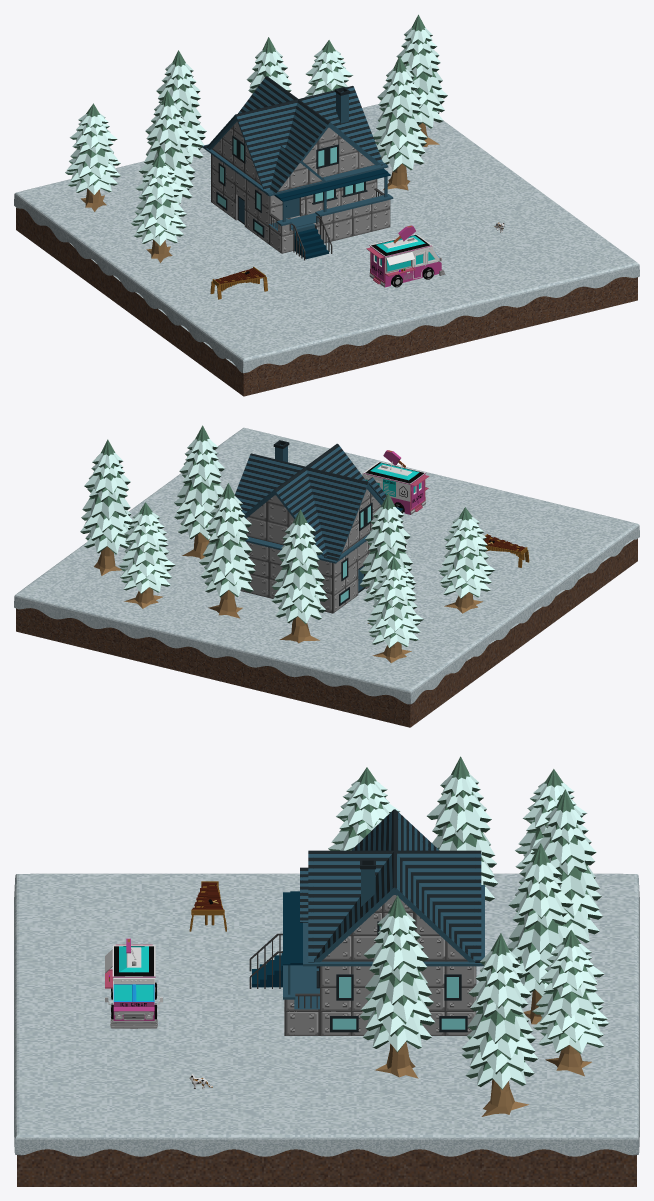
3 renders of one model, top to bottom at view 1: azimuth 30°, elevation 25°; view 2: azimuth 150°, elevation 25°; view 3: azimuth 270°, elevation 25°, orthographic. The views are drawn at different scales.
Parts seen in each view (by area): view 1: Cube.003, Cube.078, VEHICLES_ICE_CREAM_TRUCK, OBJRANDOM_MARIMBA; view 2: Cube.003, Cube.078, VEHICLES_ICE_CREAM_TRUCK, OBJRANDOM_MARIMBA; view 3: Cube.003, Cube.078, VEHICLES_ICE_CREAM_TRUCK, OBJRANDOM_MARIMBA.
Part boxes in pixels (box(x1,y1,x2,y2)): Cube.003: box(14, 14, 639, 396); Cube.078: box(202, 76, 393, 260); VEHICLES_ICE_CREAM_TRUCK: box(366, 225, 445, 287); OBJRANDOM_MARIMBA: box(210, 266, 267, 299); Cube.003: box(14, 425, 639, 727); Cube.078: box(235, 440, 405, 613); VEHICLES_ICE_CREAM_TRUCK: box(362, 450, 429, 514); OBJRANDOM_MARIMBA: box(484, 534, 529, 567); Cube.003: box(14, 756, 639, 1186); Cube.078: box(249, 809, 484, 1035); VEHICLES_ICE_CREAM_TRUCK: box(105, 938, 162, 1028); OBJRANDOM_MARIMBA: box(189, 881, 226, 931).
Bounding box in the file's own units: 4040 × 1793 × 4040.
40 materials, 5 textured.
